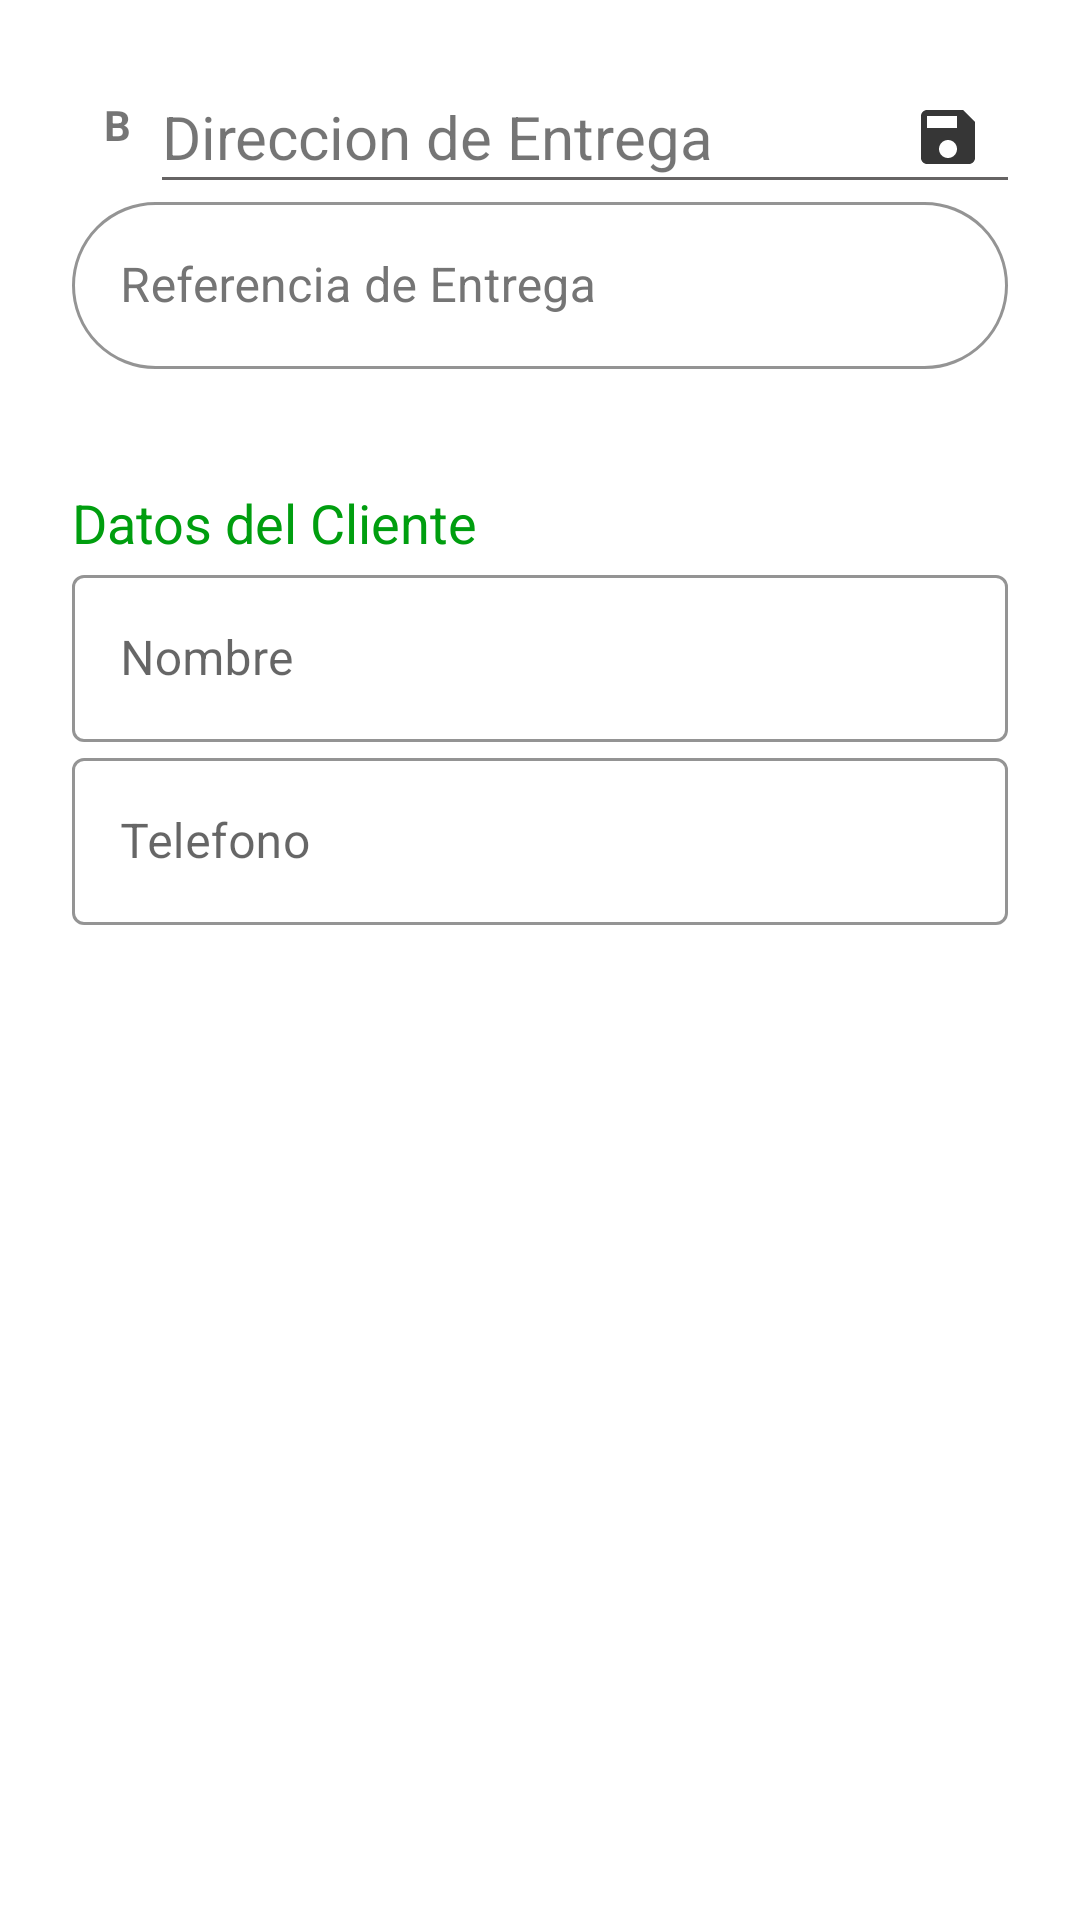

Icon click points for this 1080*1920 phone screenshot, format (x,y):
save: (948,137)
